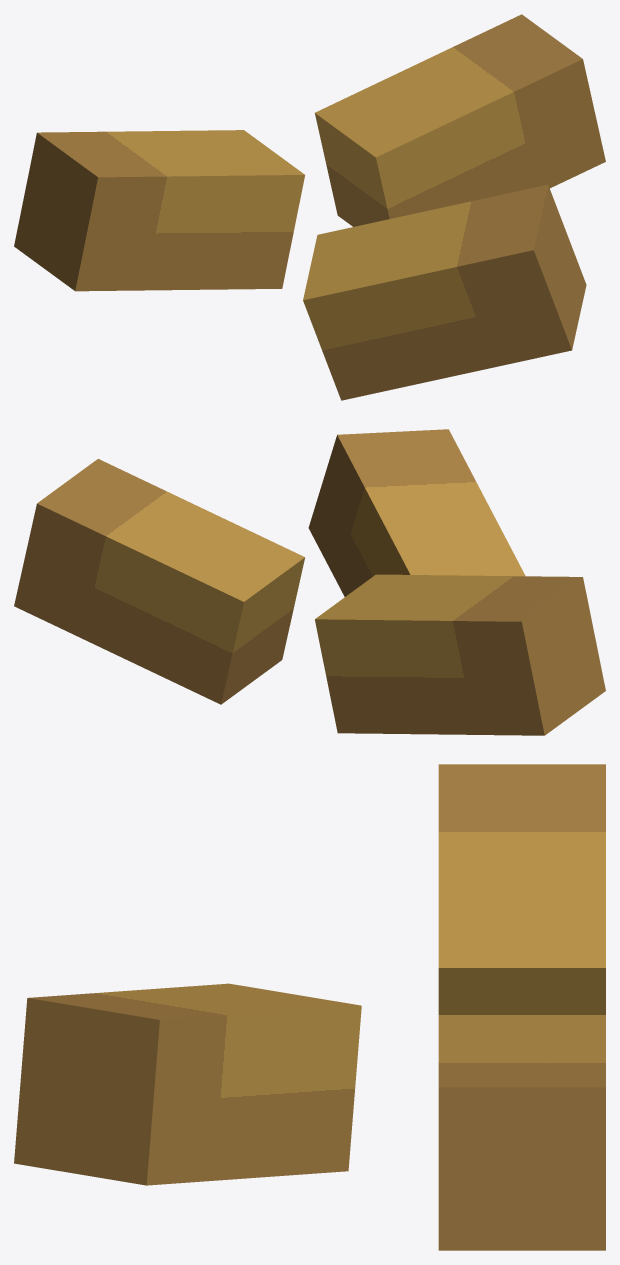
Rendered from lettuce-seeds.gltf.
The picture shows the model from 3 angles, top to bottom: view 1: azimuth 30°, elevation 25°; view 2: azimuth 150°, elevation 25°; view 3: azimuth 270°, elevation 25°; orthographic projection. The views are drawn at different scales.
Visible parts, largest first — view 1: cube (×3); view 2: cube (×3); view 3: cube (×3).
Boxes of the visible parts, x1,y1,x2,y2 form: cube (×3): (14, 14, 605, 400); cube (×3): (14, 429, 605, 735); cube (×3): (14, 764, 605, 1250).
Bounding box in the file's own units: 0.4692 × 0.1715 × 0.3319.
1 material, 1 textured.
